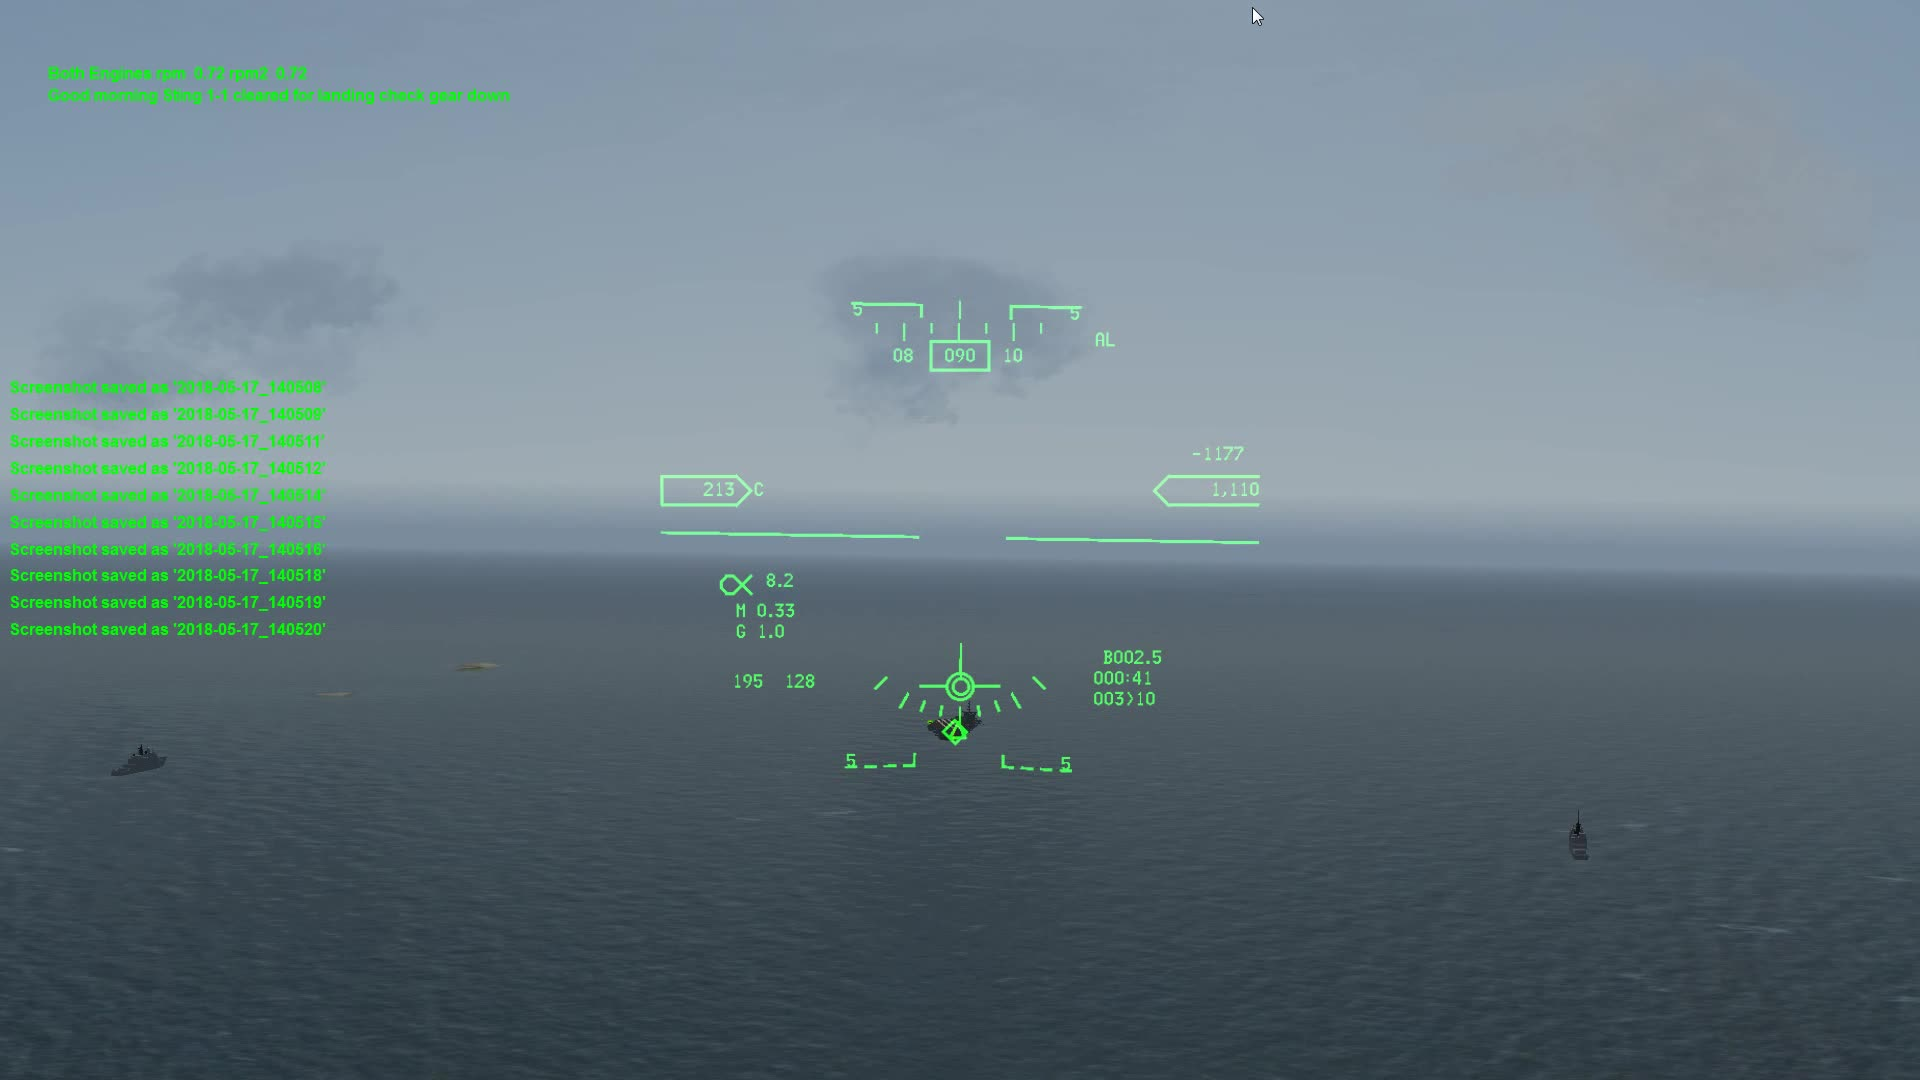speed vector: (913, 633, 1009, 708)
